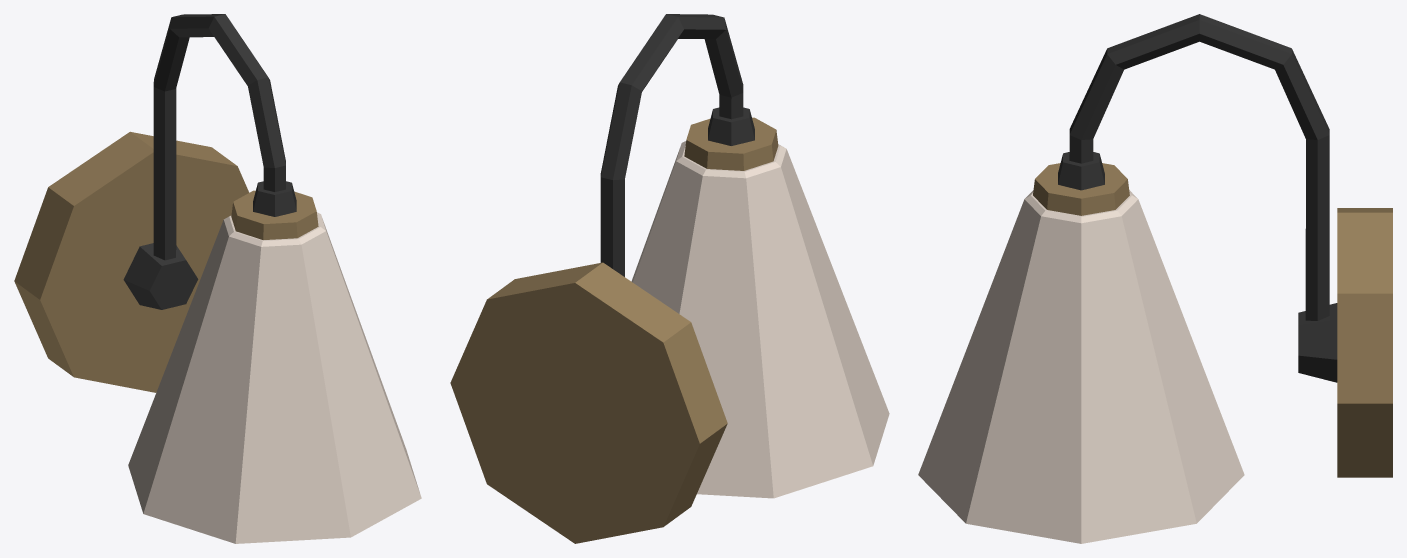
Rendered from SM_Props_Interior_Shop_Light_WallLight_01.fbx.
3 views of the same model, side by side, from view 1: azimuth 30°, elevation 25°; view 2: azimuth 150°, elevation 25°; view 3: azimuth 270°, elevation 25° (orthographic). The views are drawn at different scales.
Visible parts, largest first — view 1: SM_Props_Interior_Shop_Light_WallLight_01; view 2: SM_Props_Interior_Shop_Light_WallLight_01; view 3: SM_Props_Interior_Shop_Light_WallLight_01.
Part boxes in pixels (left/top/right/bottom): SM_Props_Interior_Shop_Light_WallLight_01: left=14, top=14, right=421, bottom=543; SM_Props_Interior_Shop_Light_WallLight_01: left=450, top=14, right=889, bottom=543; SM_Props_Interior_Shop_Light_WallLight_01: left=918, top=14, right=1392, bottom=543.
Size of the model in its own units: 23.49 by 36.35 by 34.15.
